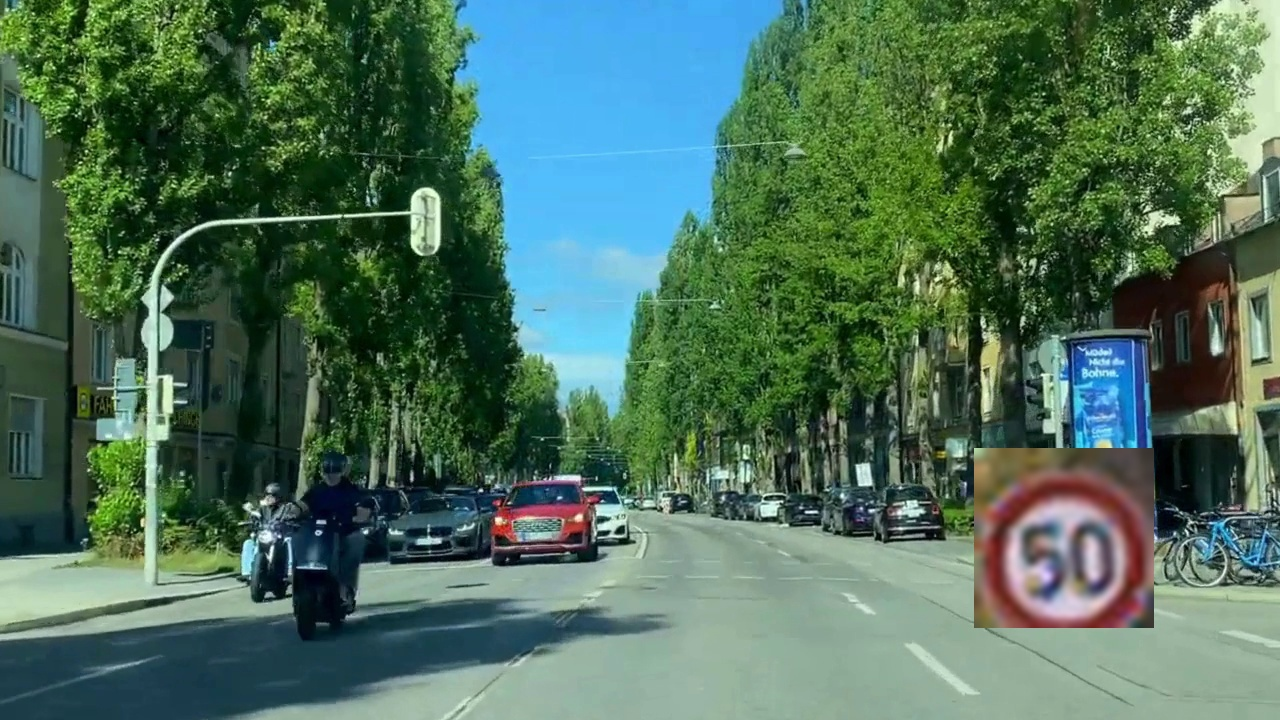Speed 50: (974, 448, 1154, 628)
